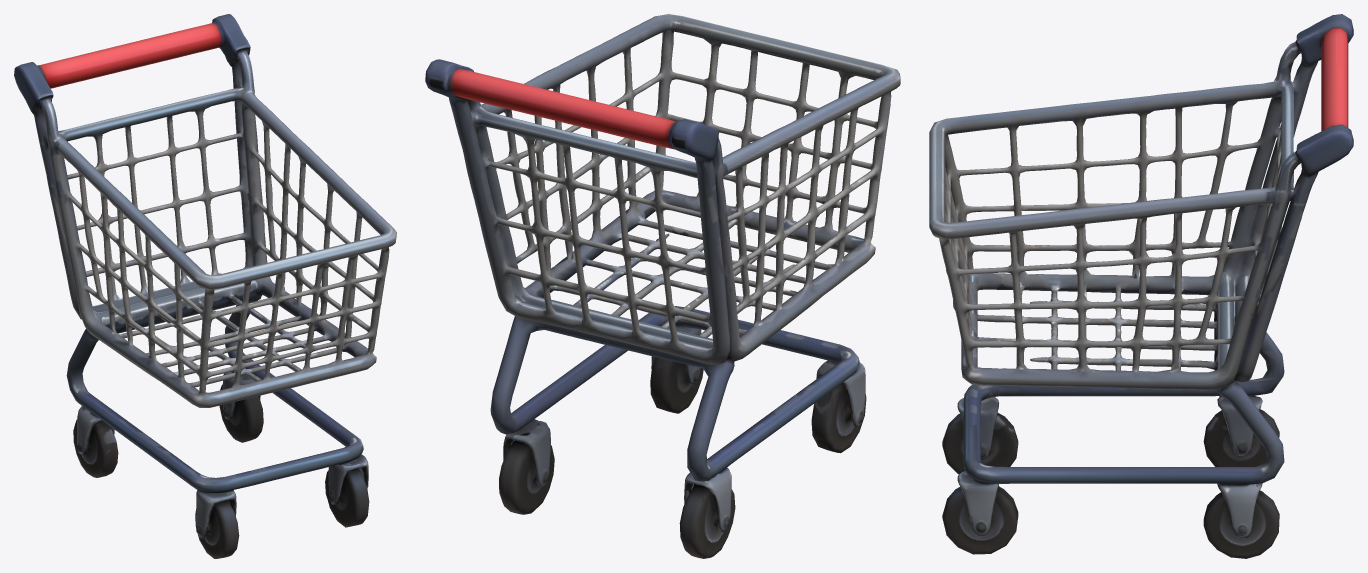
File: CarroSupermarket.glb
The picture shows the model from 3 angles, left to right: view 1: azimuth 30°, elevation 25°; view 2: azimuth 150°, elevation 25°; view 3: azimuth 270°, elevation 25°; orthographic projection. The views are drawn at different scales.
Parts seen in each view (by area): view 1: Object_2; view 2: Object_2; view 3: Object_2.
Boxes of the visible parts, <box> form: Object_2: <box>14,14,396,558</box>; Object_2: <box>425,14,900,558</box>; Object_2: <box>929,14,1353,558</box>.
Bounding box in the file's own units: 1.09 × 1.88 × 1.63.
Materials: 1 (1 with a texture image).
